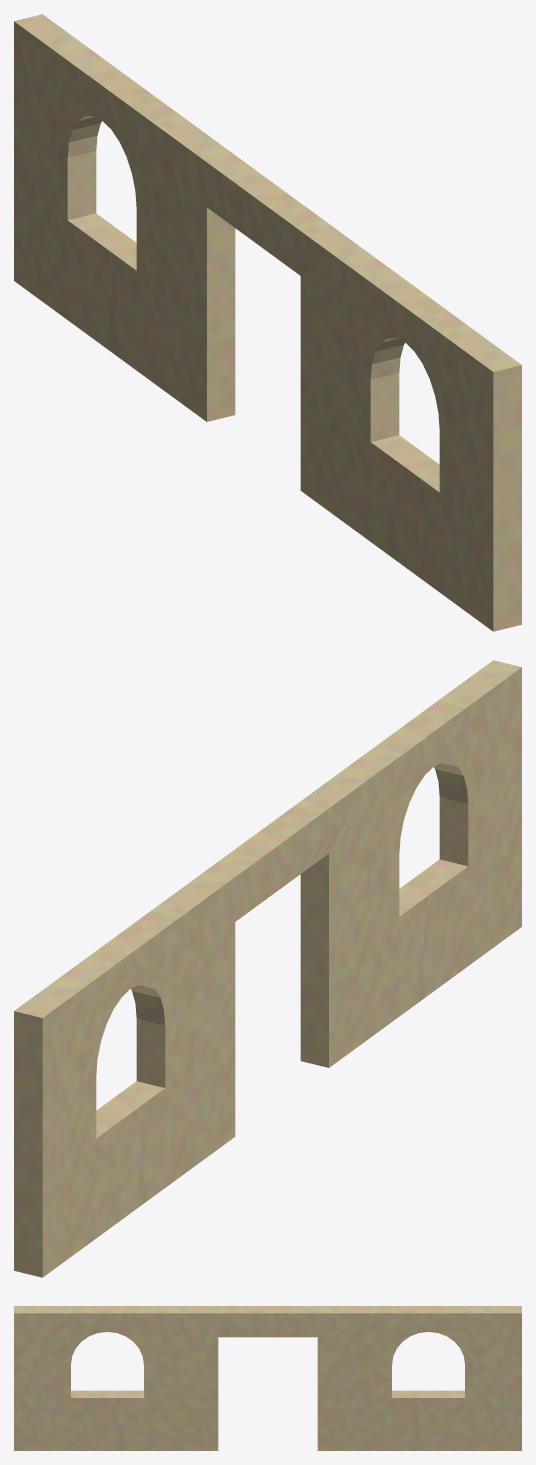
The model's file is SM_HH_V2_Walls_Front.fbx.
The picture shows the model from 3 angles, top to bottom: view 1: azimuth 30°, elevation 25°; view 2: azimuth 150°, elevation 25°; view 3: azimuth 270°, elevation 25°; orthographic projection. The views are drawn at different scales.
Visible parts, largest first — view 1: HH_V2_Walls_Front; view 2: HH_V2_Walls_Front; view 3: HH_V2_Walls_Front.
Part boxes in pixels (x1=…): HH_V2_Walls_Front: x1=14, y1=14, x2=521, y2=631; HH_V2_Walls_Front: x1=14, y1=660, x2=521, y2=1277; HH_V2_Walls_Front: x1=14, y1=1306, x2=521, y2=1450.
Bounding box in the file's own units: 8.7 × 0.3 × 2.6.
